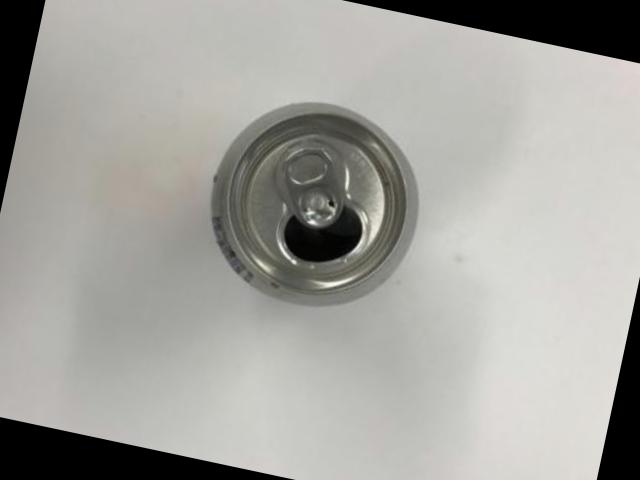metal: (213, 100, 419, 303)
